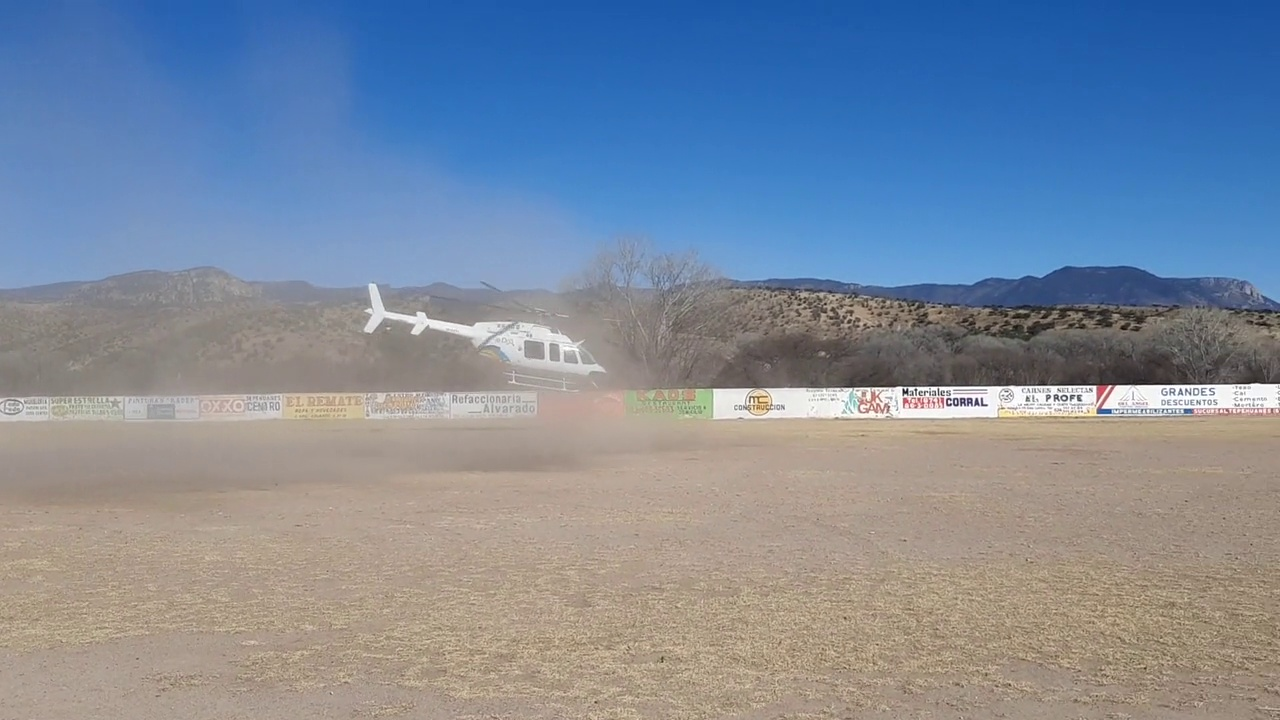heli: (362, 282, 614, 394)
